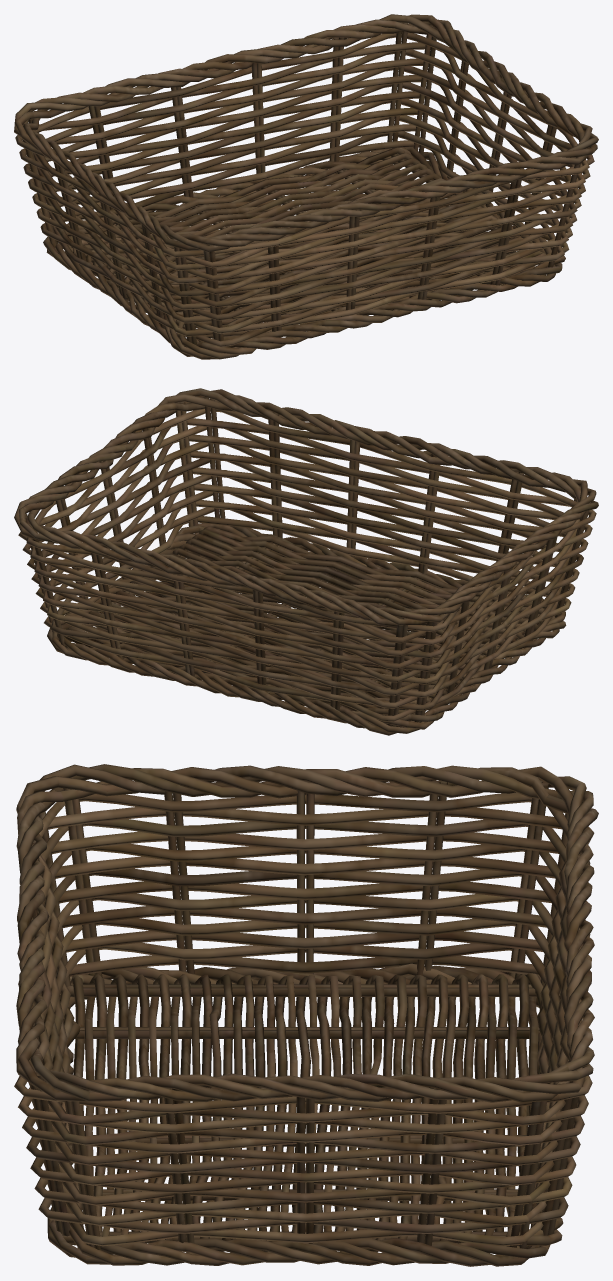
The model's file is wicker_basket_01.glb.
3 views of the same model, one above another, from view 1: azimuth 30°, elevation 25°; view 2: azimuth 150°, elevation 25°; view 3: azimuth 270°, elevation 25° (orthographic). The views are drawn at different scales.
Parts seen in each view (by area): view 1: wicker_basket_01; view 2: wicker_basket_01; view 3: wicker_basket_01.
Boxes of the visible parts, x1=… form: wicker_basket_01: x1=14, y1=14, x2=598, y2=359; wicker_basket_01: x1=14, y1=388, x2=598, y2=735; wicker_basket_01: x1=14, y1=764, x2=598, y2=1266.
Size of the model in its own units: 0.3832 by 0.1174 by 0.295.
Materials: 1 (1 with a texture image).
